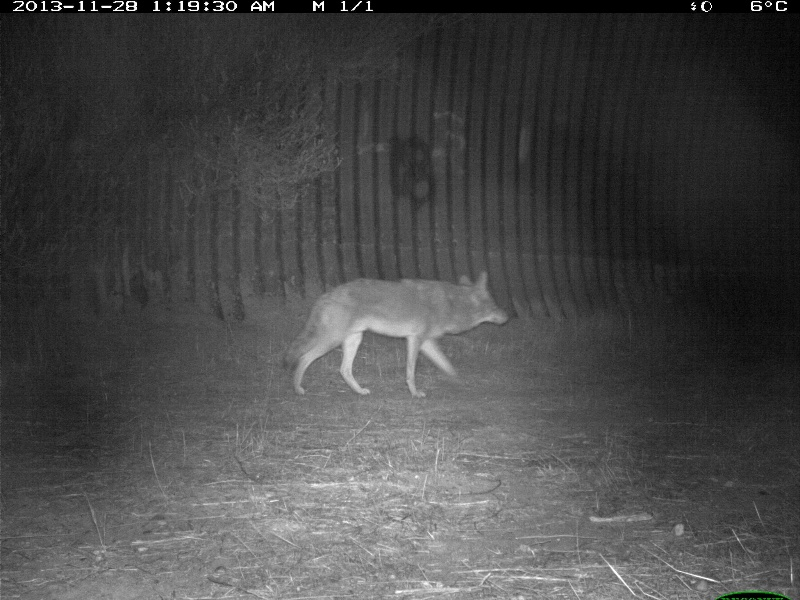coyote: (282, 266, 512, 398)
